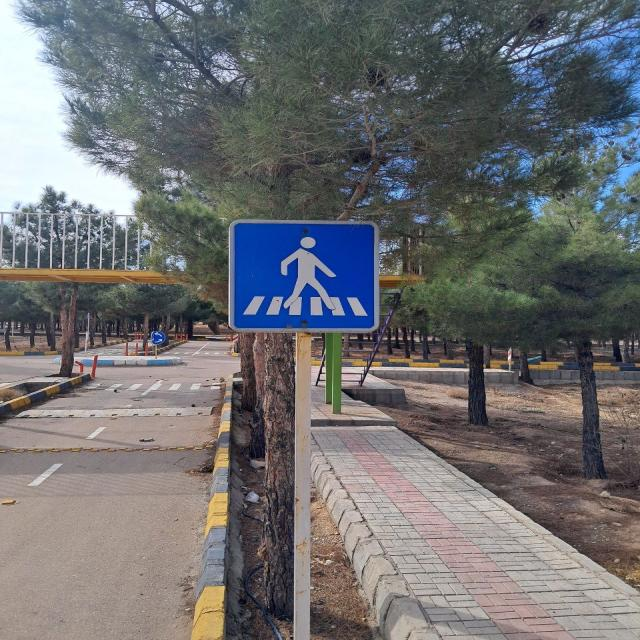p crossing ahead: (220, 207, 387, 329)
